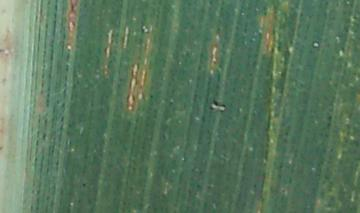tarspot: (211, 101, 227, 113), (150, 94, 154, 99), (82, 184, 86, 188)
